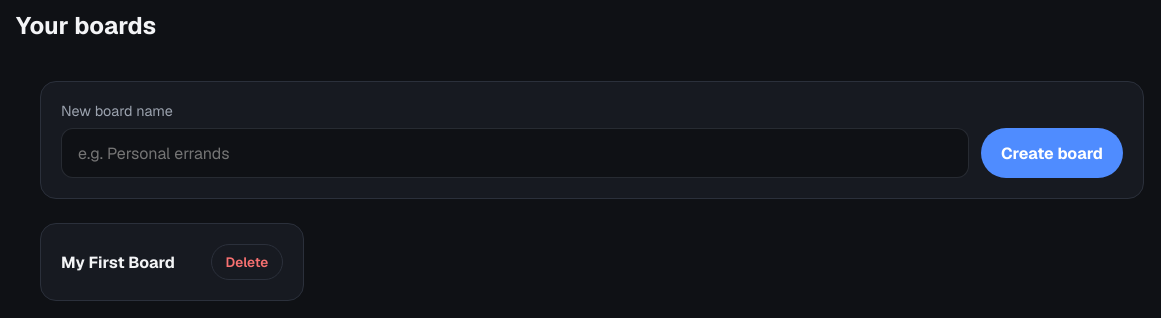
Test case: BoardsPage › creates a board and refreshes the list
The image size is (1161, 318).
Expected: the link "My First Board" is shown, [61, 252, 175, 273]
In the field with test id "board-name-input": (515, 153) [61, 128, 969, 178], type "Second board"
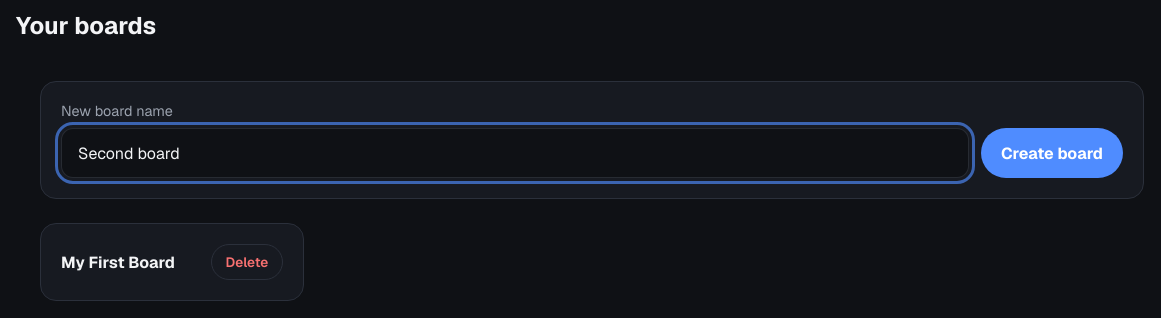
Click the button with test id "create-board-button": (1052, 153) [981, 128, 1123, 178]
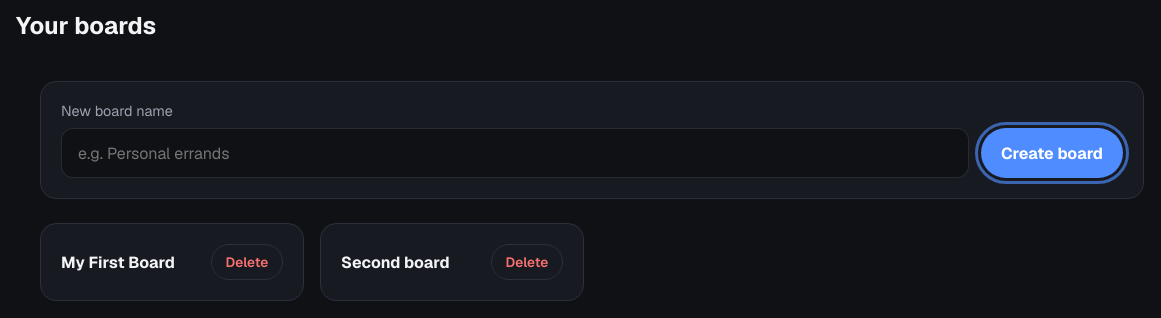
Now the list item with test id "board-card-2" is shown, box [320, 223, 584, 301]
